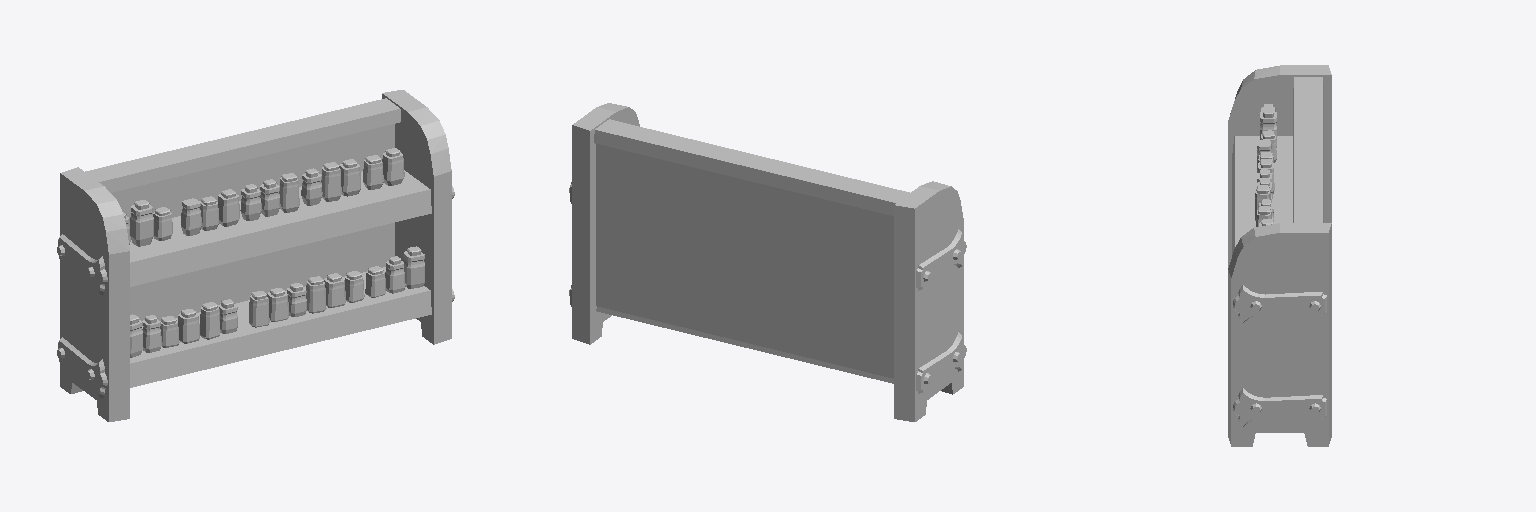
Rendered from Shelf_Small_Bottles.obj.
3 renders of one model, left to right at view 1: azimuth 30°, elevation 25°; view 2: azimuth 150°, elevation 25°; view 3: azimuth 270°, elevation 25°, orthographic.
Visible parts, largest first — view 1: Shelf_Small_Bottles_Cube.166; view 2: Shelf_Small_Bottles_Cube.166; view 3: Shelf_Small_Bottles_Cube.166.
Boxes of the visible parts, x1,y1,x2,y2 form: Shelf_Small_Bottles_Cube.166: [57, 90, 454, 421]; Shelf_Small_Bottles_Cube.166: [569, 103, 966, 421]; Shelf_Small_Bottles_Cube.166: [1228, 65, 1331, 446].
Bounding box in the file's own units: 1.14 × 0.6474 × 0.2846.